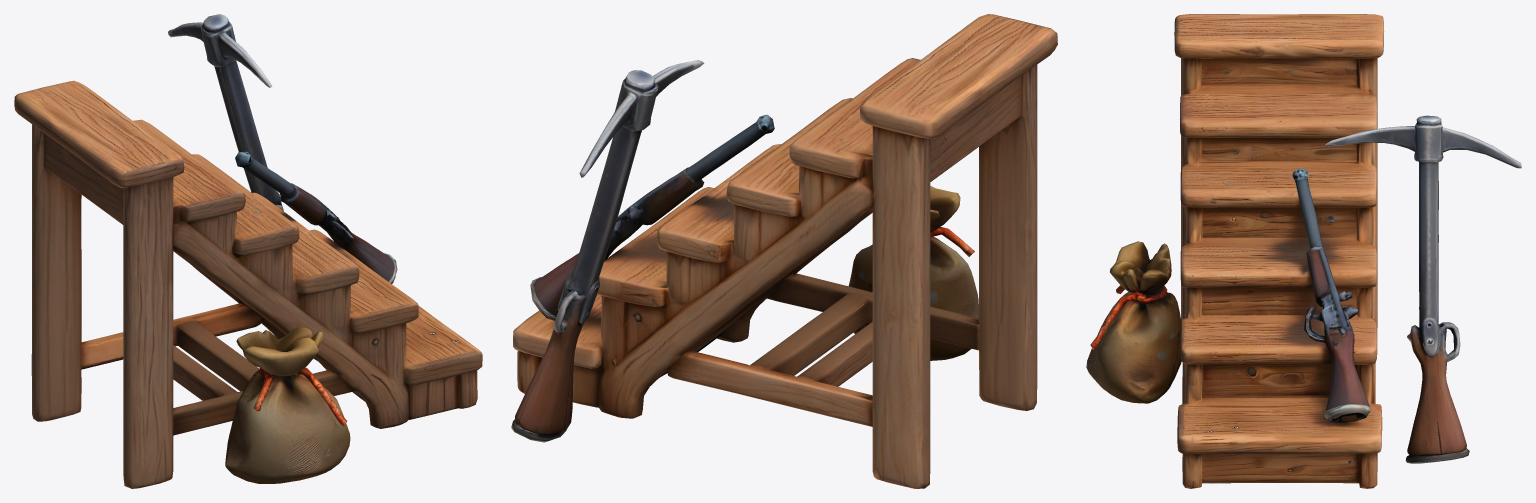
File: stairWood.fbx
3 views of the same model, side by side, from view 1: azimuth 30°, elevation 25°; view 2: azimuth 150°, elevation 25°; view 3: azimuth 270°, elevation 25° (orthographic). The views are drawn at different scales.
Parts seen in each view (by area): view 1: tripo_node_744d1b9f; view 2: tripo_node_744d1b9f; view 3: tripo_node_744d1b9f.
Boxes of the visible parts, x1,y1,x2,y2 form: tripo_node_744d1b9f: [14, 14, 482, 488]; tripo_node_744d1b9f: [511, 14, 1057, 488]; tripo_node_744d1b9f: [1086, 14, 1521, 488].
Size of the model in its own units: 0.9338 by 0.7938 by 0.999.
Materials: 1 (1 with a texture image).
